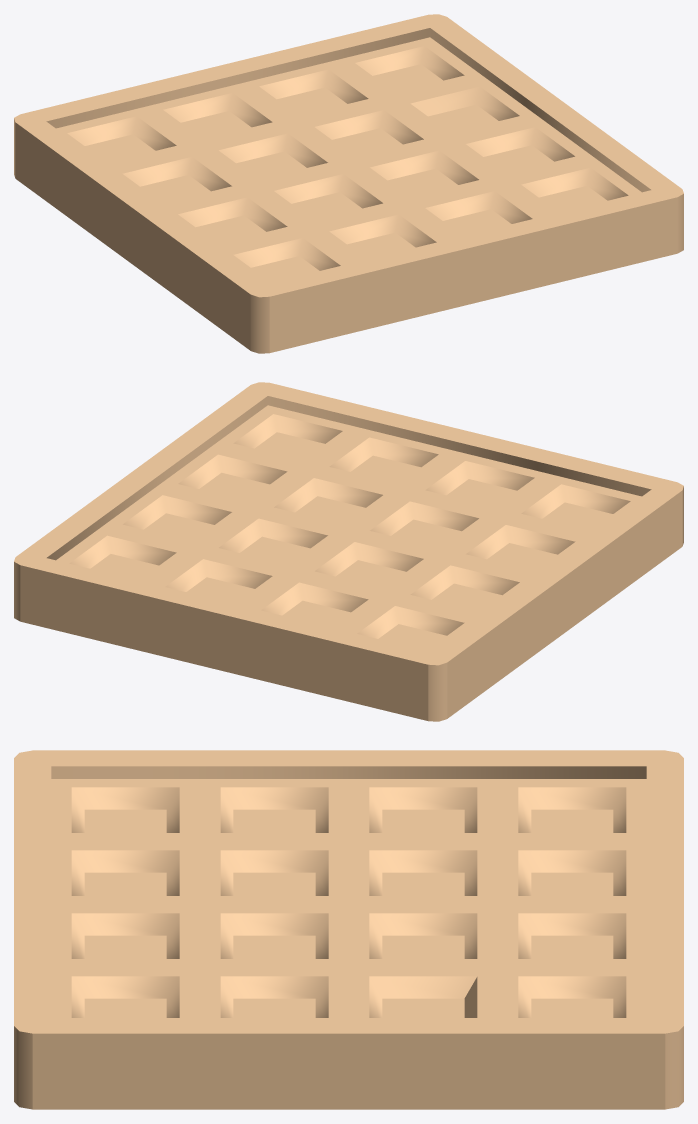
The model's file is waffle.obj.
3 renders of one model, top to bottom at view 1: azimuth 30°, elevation 25°; view 2: azimuth 150°, elevation 25°; view 3: azimuth 270°, elevation 25°, orthographic. The views are drawn at different scales.
Parts seen in each view (by area): view 1: waffle; view 2: waffle; view 3: waffle.
Part boxes in pixels (x1,y1,x2,y2): waffle: (14,14,683,353); waffle: (14,382,683,721); waffle: (14,750,683,1109).
Size of the model in its own units: 0.3204 by 0.04 by 0.3204.
